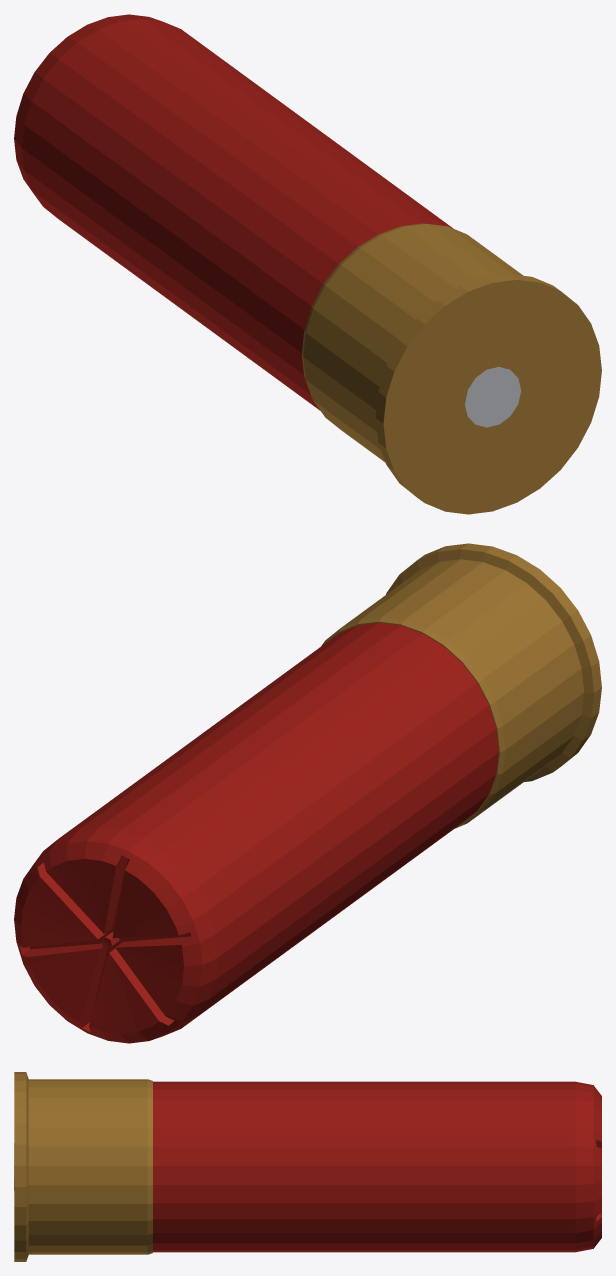
The model's file is municao_12_chumbo.glb.
3 views of the same model, one above another, from view 1: azimuth 30°, elevation 25°; view 2: azimuth 150°, elevation 25°; view 3: azimuth 270°, elevation 25° (orthographic). The views are drawn at different scales.
Visible parts, largest first — view 1: municao_12_chumbo_casca_vermelha, municao_12_chumbo_latao, municao_12_chumbo_aco_inox; view 2: municao_12_chumbo_casca_vermelha, municao_12_chumbo_latao; view 3: municao_12_chumbo_casca_vermelha, municao_12_chumbo_latao.
Boxes of the visible parts, bbox=[...] form: municao_12_chumbo_casca_vermelha: bbox=[14, 14, 453, 410]; municao_12_chumbo_latao: bbox=[301, 223, 601, 514]; municao_12_chumbo_aco_inox: bbox=[464, 367, 520, 427]; municao_12_chumbo_casca_vermelha: bbox=[14, 622, 498, 1043]; municao_12_chumbo_latao: bbox=[321, 543, 601, 828]; municao_12_chumbo_casca_vermelha: bbox=[153, 1081, 601, 1252]; municao_12_chumbo_latao: bbox=[14, 1072, 152, 1261].
Size of the model in its own units: 0.0225 by 0.0225 by 0.0697.
